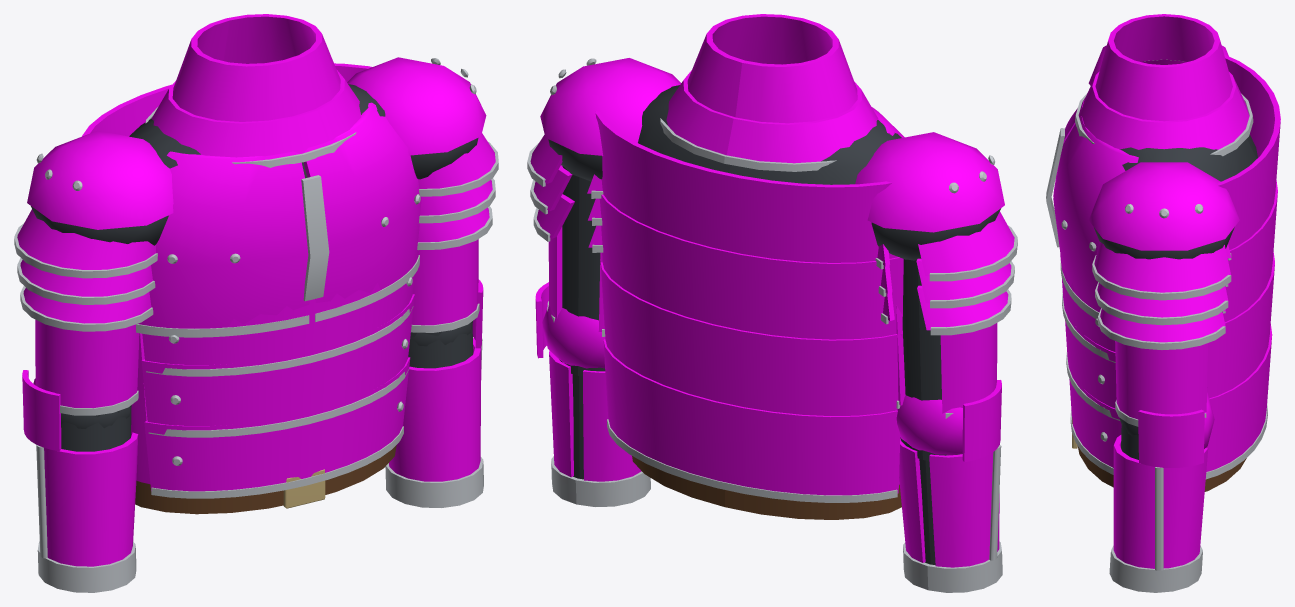
File: porte_armure2_plastron.glb
The picture shows the model from 3 angles, left to right: view 1: azimuth 30°, elevation 25°; view 2: azimuth 150°, elevation 25°; view 3: azimuth 270°, elevation 25°; orthographic projection. The views are drawn at different scales.
Parts seen in each view (by area): view 1: poitrine__plastron_teinte.010, ventre__plastron_teinte.010, poitrine__plastron_rivet.004, avantbras_d__plastron_teinte.010, avantbras_g__plastron_teinte.010, bras_d__plastron_teinte.010, ventre__plastron_rivet.006, bras_g__plastron_teinte.010, poitrine__plastron_teinte_sombre.008, avantbras_d__plastron_rivet.002, ventre__plastron_sac_cuir.004, avantbras_g__plastron_rivet.002 (+4 smaller); view 2: poitrine__plastron_teinte.010, ventre__plastron_teinte.010, avantbras_d__plastron_teinte.010, avantbras_g__plastron_teinte.010, poitrine__plastron_teinte_sombre.008, poitrine__plastron_rivet.004, bras_d__plastron_teinte.010, bras_g__plastron_teinte_sombre.008, ventre__plastron_sac_cuir.004, bras_d__plastron_teinte_sombre.008, avantbras_d__plastron_rivet.002, avantbras_g__plastron_rivet.002 (+4 smaller); view 3: poitrine__plastron_teinte.010, ventre__plastron_teinte.010, avantbras_g__plastron_teinte.010, bras_g__plastron_teinte.010, poitrine__plastron_rivet.004, poitrine__plastron_teinte_sombre.008, avantbras_g__plastron_rivet.002, ventre__plastron_rivet.006, ventre__plastron_sac_cuir.004, avantbras_g__plastron_teinte_sombre.008.
Part boxes in pixels (left/top/right/bottom): poitrine__plastron_teinte.010: left=17, top=14, right=495, bottom=328; ventre__plastron_teinte.010: left=131, top=274, right=414, bottom=491; poitrine__plastron_rivet.004: left=14, top=58, right=498, bottom=337; avantbras_d__plastron_teinte.010: left=22, top=370, right=138, bottom=566; avantbras_g__plastron_teinte.010: left=389, top=279, right=483, bottom=481; bras_d__plastron_teinte.010: left=35, top=319, right=139, bottom=408; ventre__plastron_rivet.006: left=146, top=277, right=413, bottom=498; bras_g__plastron_teinte.010: left=411, top=239, right=478, bottom=325; poitrine__plastron_teinte_sombre.008: left=31, top=84, right=478, bottom=245; avantbras_d__plastron_rivet.002: left=36, top=445, right=136, bottom=592; ventre__plastron_sac_cuir.004: left=135, top=445, right=396, bottom=514; avantbras_g__plastron_rivet.002: left=385, top=338, right=483, bottom=507; poitrine__plastron_teinte.010: left=530, top=14, right=1014, bottom=339; ventre__plastron_teinte.010: left=600, top=260, right=902, bottom=495; avantbras_d__plastron_teinte.010: left=896, top=380, right=1001, bottom=567; avantbras_g__plastron_teinte.010: left=535, top=282, right=641, bottom=481; poitrine__plastron_teinte_sombre.008: left=548, top=85, right=1001, bottom=260; poitrine__plastron_rivet.004: left=527, top=58, right=1017, bottom=335; bras_d__plastron_teinte.010: left=896, top=305, right=997, bottom=413; bras_g__plastron_teinte_sombre.008: left=559, top=164, right=605, bottom=376; ventre__plastron_sac_cuir.004: left=632, top=456, right=901, bottom=519; bras_d__plastron_teinte_sombre.008: left=900, top=259, right=962, bottom=460; avantbras_d__plastron_rivet.002: left=903, top=445, right=1002, bottom=592; avantbras_g__plastron_rivet.002: left=551, top=447, right=650, bottom=506; poitrine__plastron_teinte.010: left=1053, top=14, right=1280, bottom=342; ventre__plastron_teinte.010: left=1060, top=252, right=1274, bottom=471; avantbras_g__plastron_teinte.010: left=1113, top=392, right=1214, bottom=568; bras_g__plastron_teinte.010: left=1115, top=341, right=1207, bottom=419; poitrine__plastron_rivet.004: left=1046, top=59, right=1253, bottom=349; poitrine__plastron_teinte_sombre.008: left=1094, top=134, right=1257, bottom=259; avantbras_g__plastron_rivet.002: left=1109, top=467, right=1202, bottom=592; ventre__plastron_rivet.006: left=1062, top=293, right=1267, bottom=479; ventre__plastron_sac_cuir.004: left=1077, top=446, right=1246, bottom=491; avantbras_g__plastron_teinte_sombre.008: left=1119, top=418, right=1138, bottom=459.
Bounding box in the file's own units: 0.6939 × 0.695 × 0.326.
